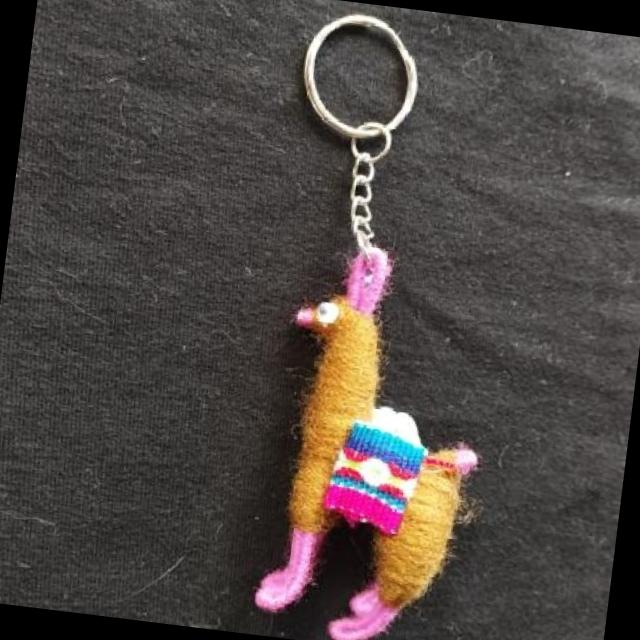Llavero: (248, 234, 504, 640)
